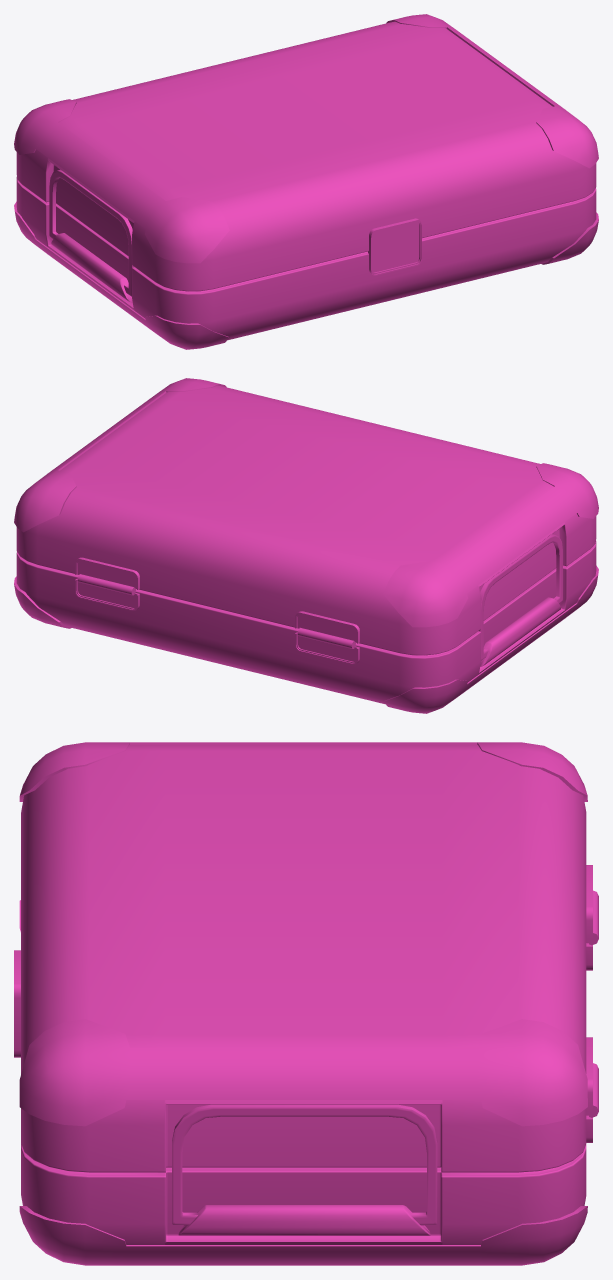
The picture shows the model from 3 angles, top to bottom: view 1: azimuth 30°, elevation 25°; view 2: azimuth 150°, elevation 25°; view 3: azimuth 270°, elevation 25°; orthographic projection. The views are drawn at different scales.
Visible parts, largest first — view 1: SM_Box; view 2: SM_Box; view 3: SM_Box.
Boxes of the visible parts, x1=… form: SM_Box: x1=14, y1=14, x2=598, y2=349; SM_Box: x1=14, y1=378, x2=598, y2=713; SM_Box: x1=14, y1=742, x2=598, y2=1265.
Size of the model in its own units: 1.01 by 0.3063 by 0.7244.
